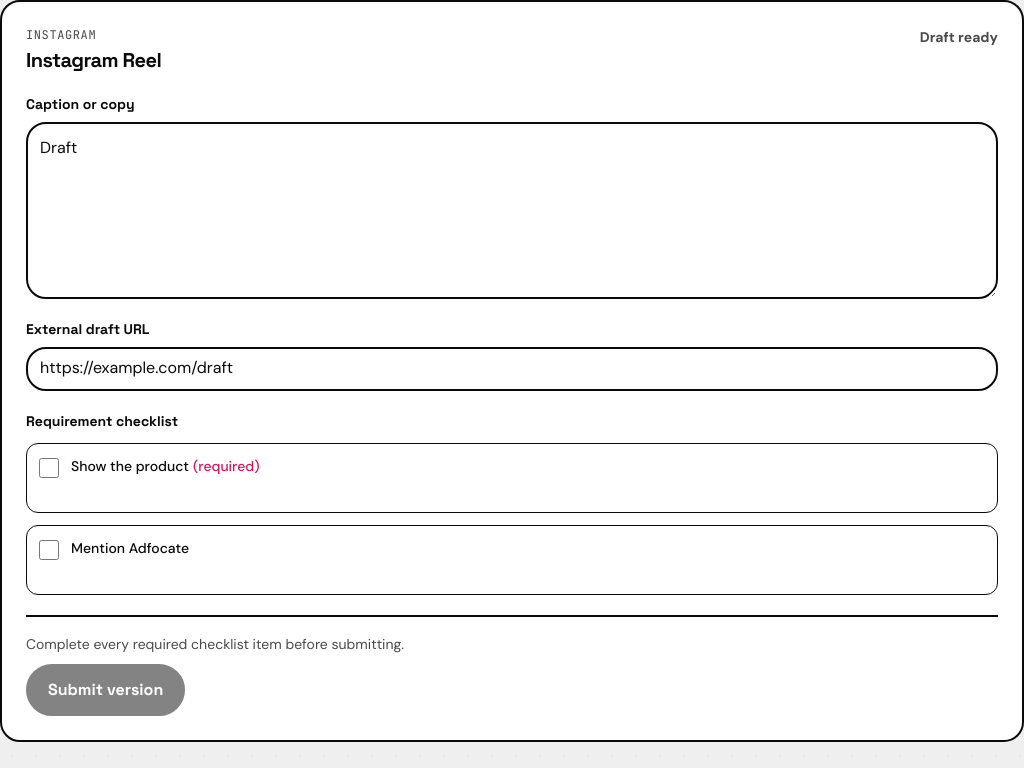
Test: DraftEditor › preserves local input and announces a conflict when autosave fails stale
Replace the text in the text box labelled "Caption or copy" with "Keep this local edit" at (512, 210), box [26,122,998,299]
Wait 800 ms
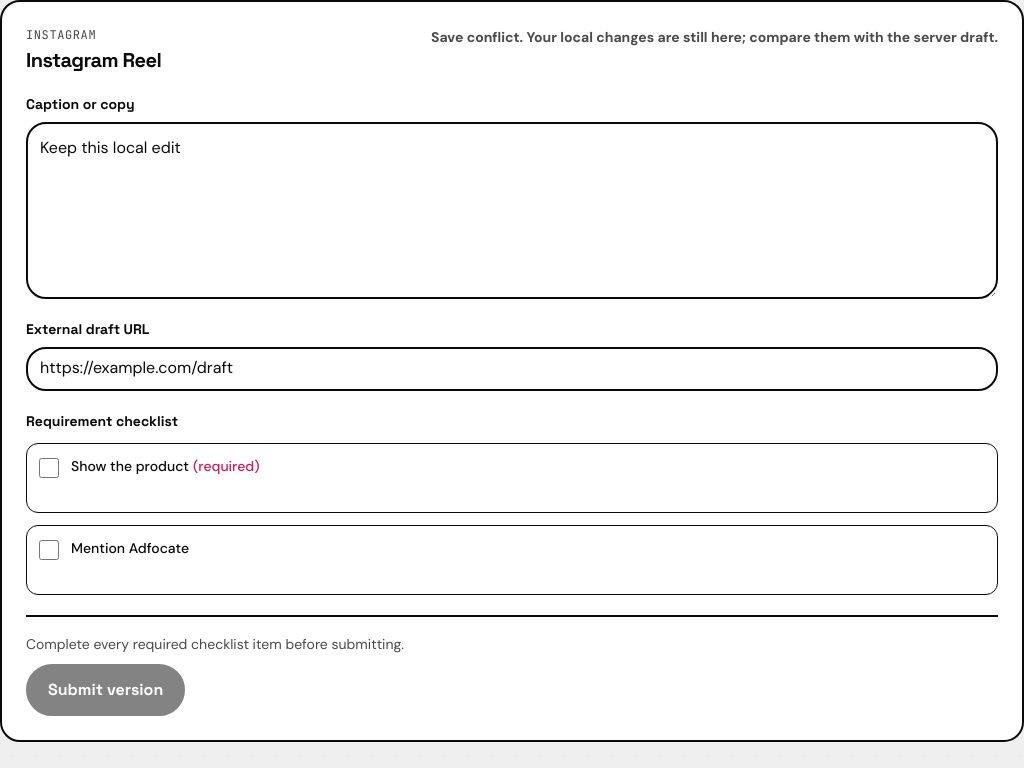
Expected: the message shows "conflict", [431,28,998,46]
